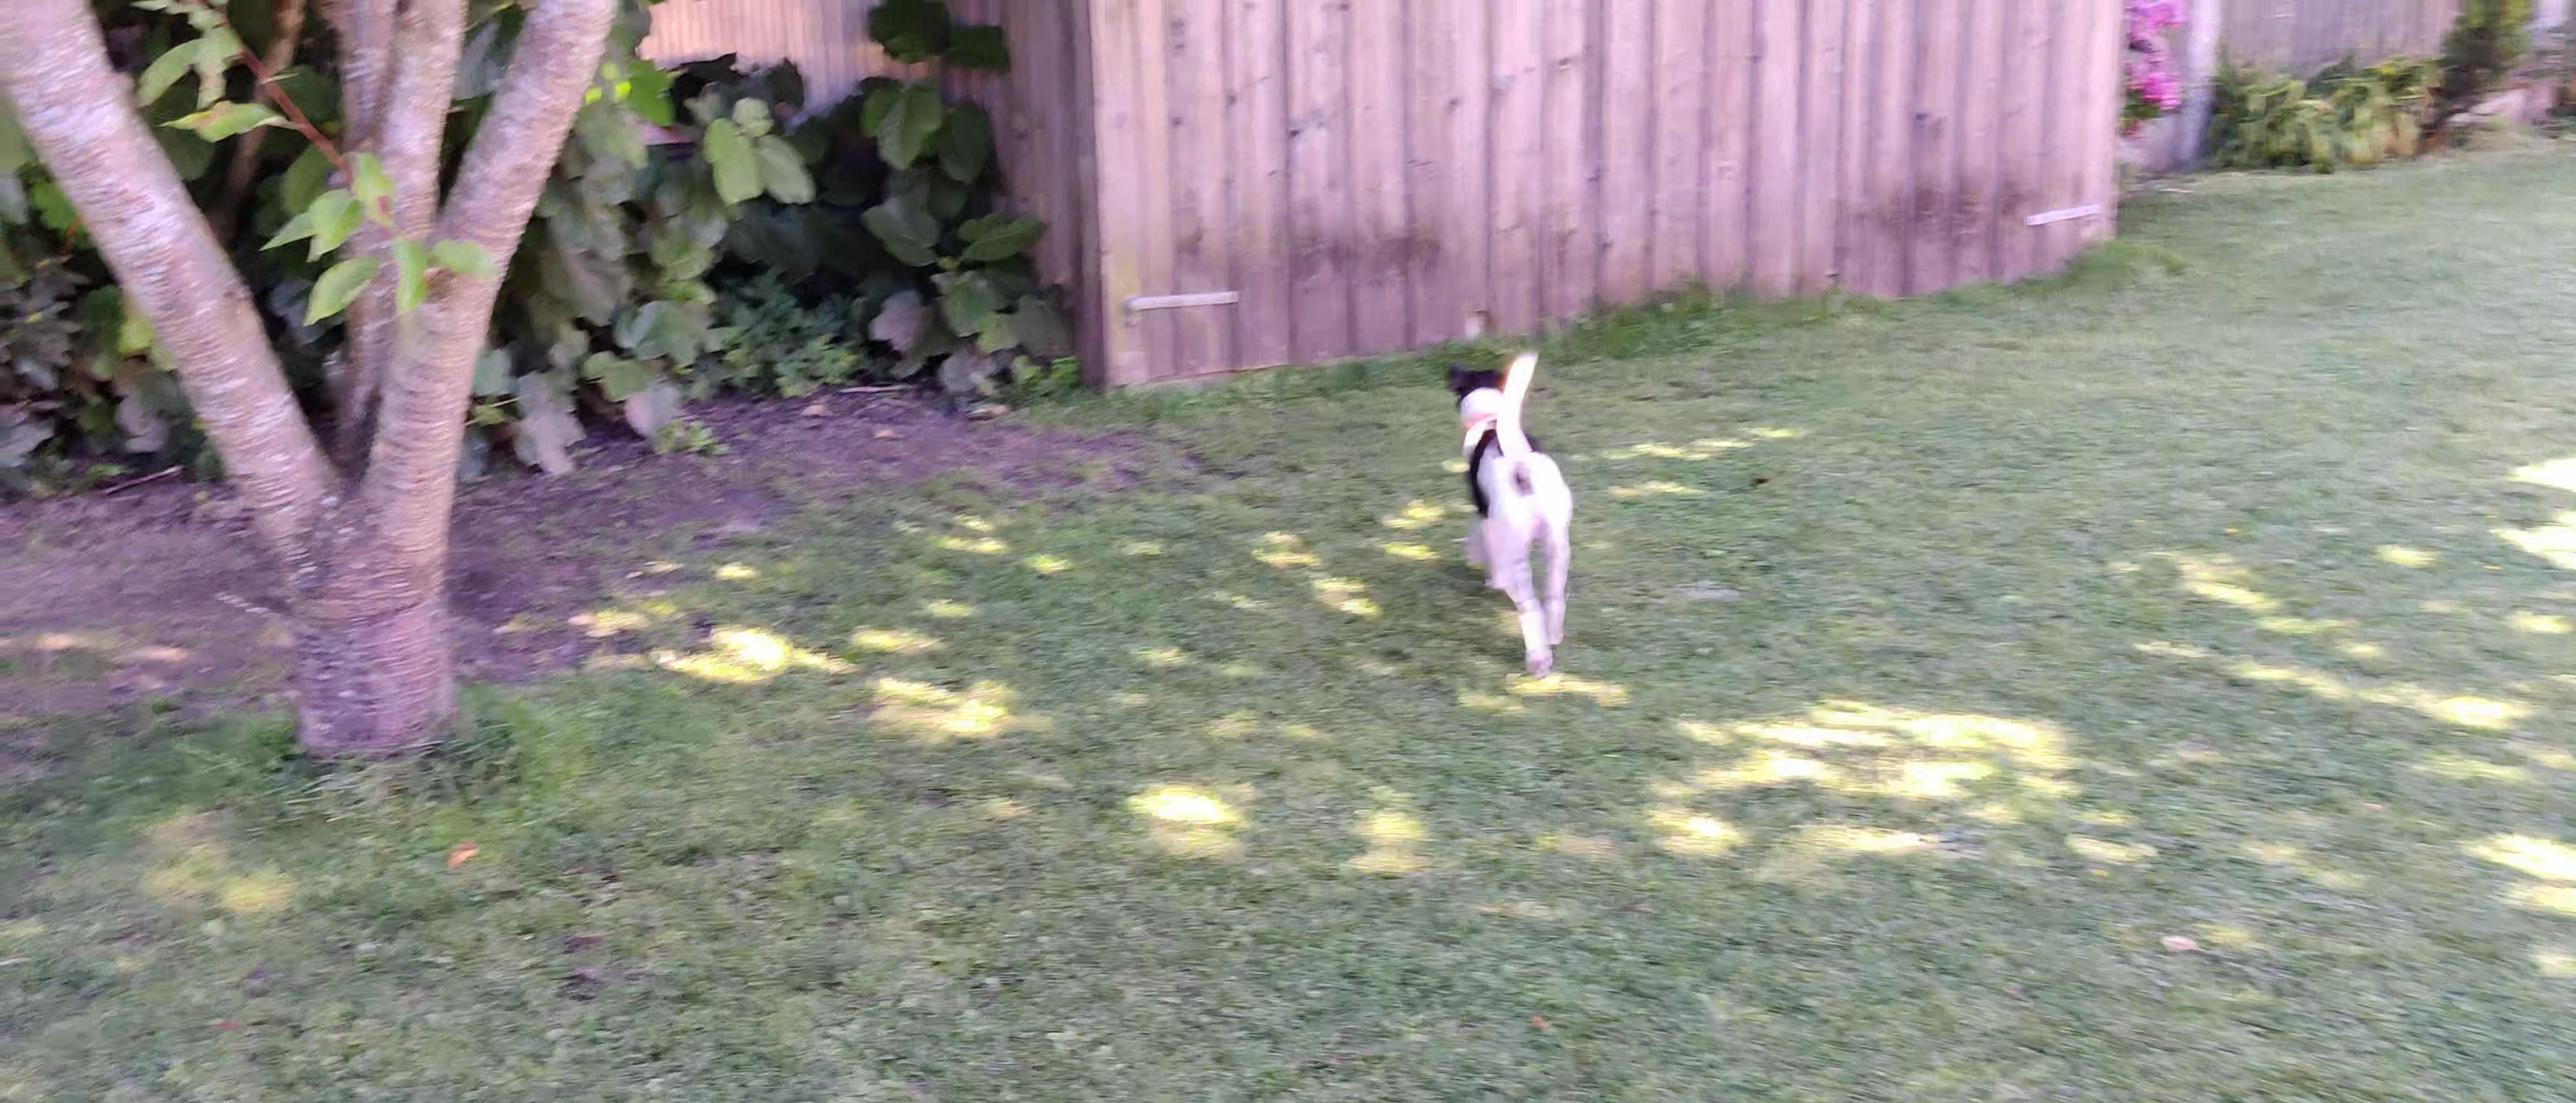Dog: (1436, 348, 1582, 687)
